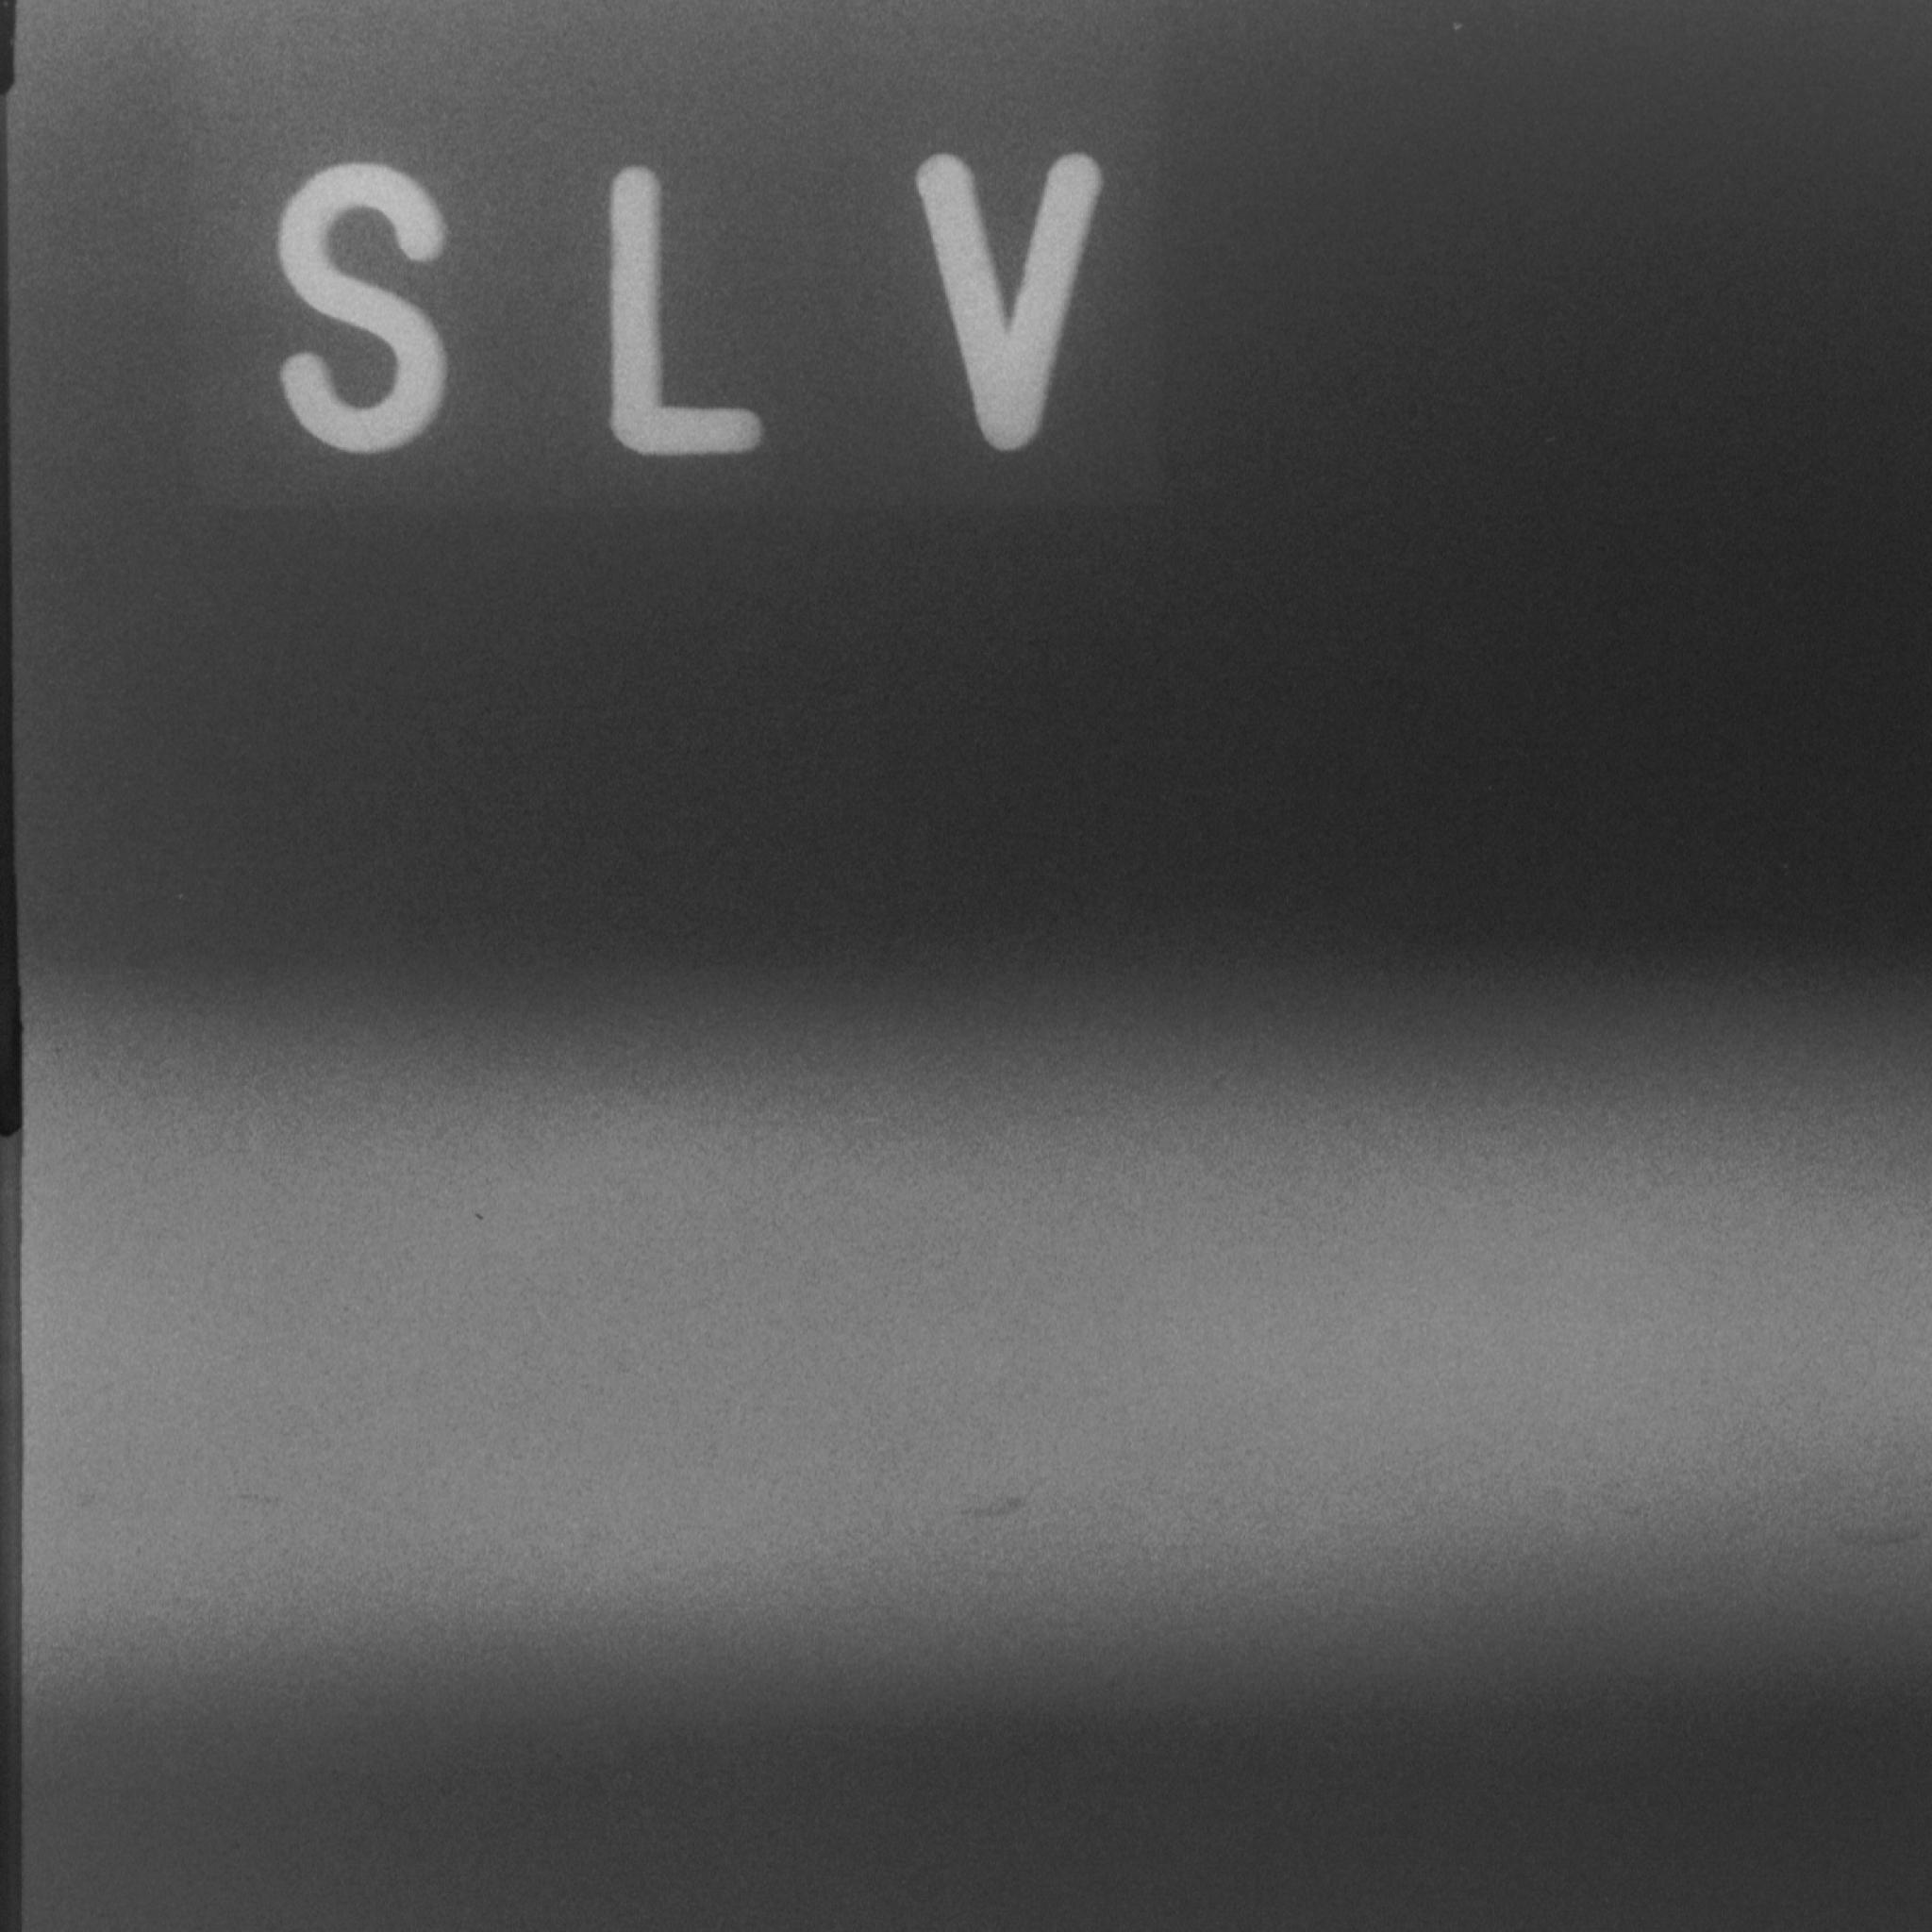Solda Ruim: (39, 855, 1932, 1854)
